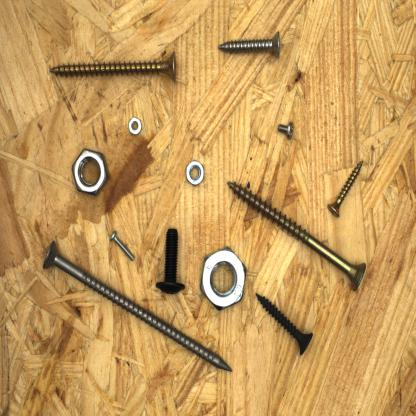screw: (40, 237, 236, 374), (45, 49, 183, 85), (253, 290, 317, 358), (153, 224, 189, 297), (215, 31, 284, 61), (107, 227, 138, 265), (275, 119, 298, 144)
